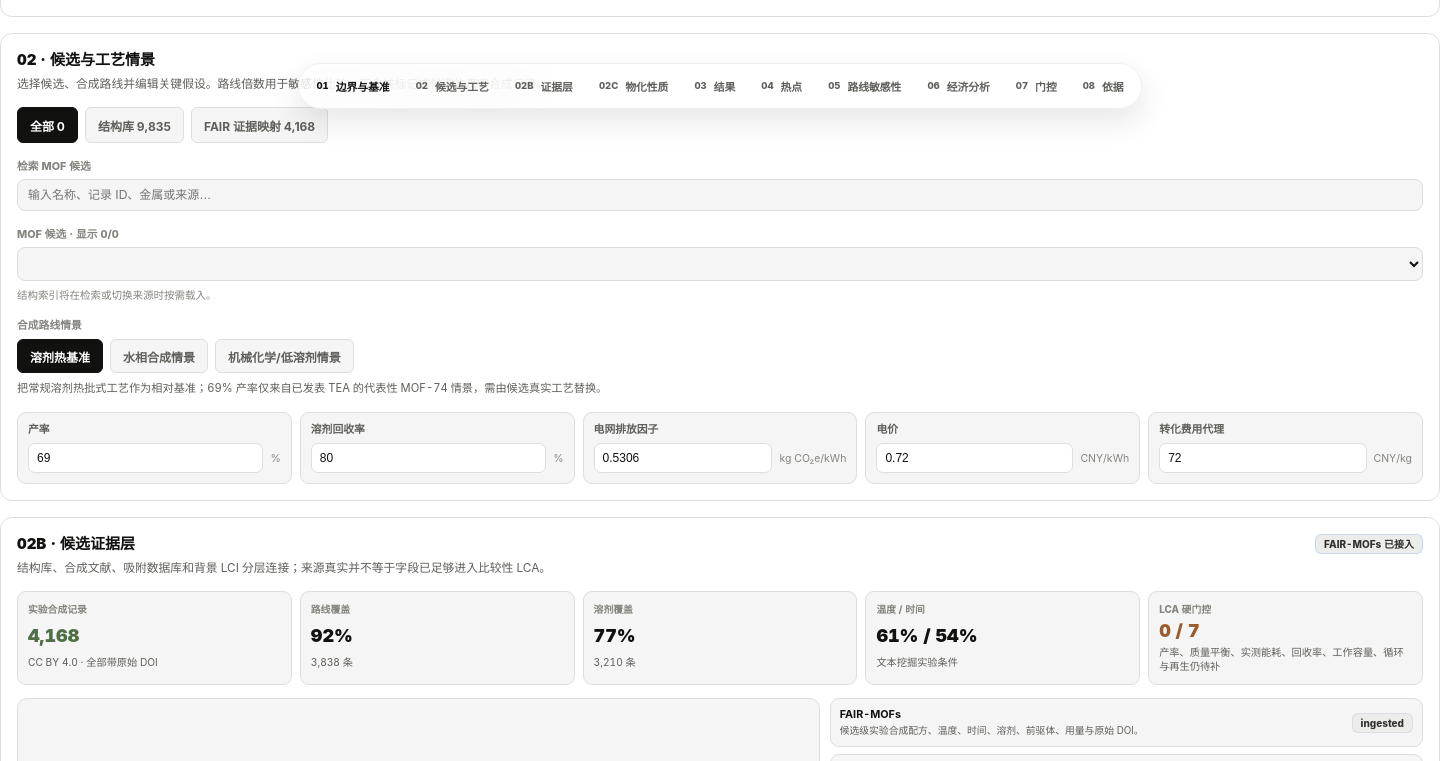
Test: EcoScreen LCA-first workbench › changes route assumptions without relabeling them as measured candidate data
(page scrolled)
Click the button "机械化学/低溶剂情景": (284, 356) x1=215 y1=339 x2=354 y2=373
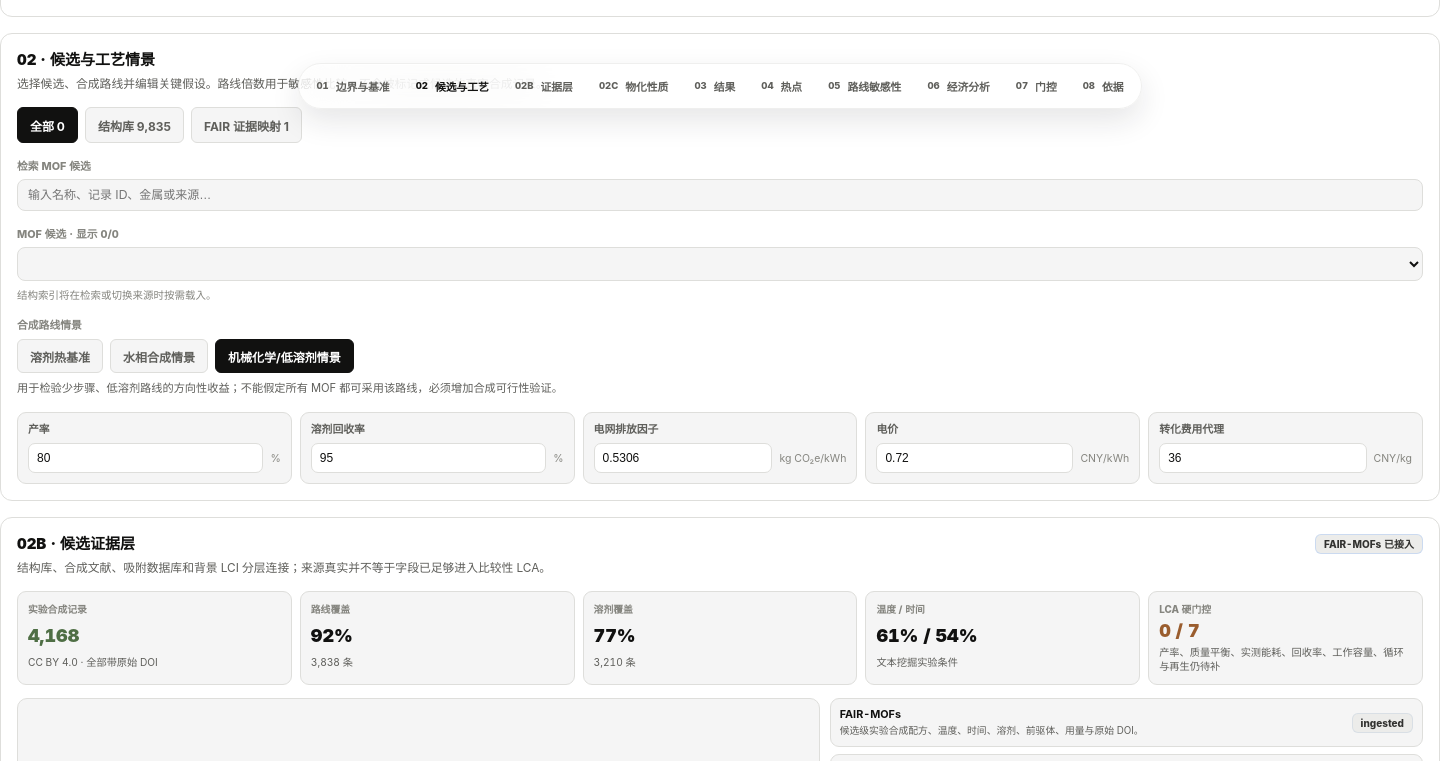
Result: the element with test id "ecoscreen-scenario-controls" shows "不能假定所有 MOF 都可采用该路线" at x1=17 y1=381 x2=563 y2=395
